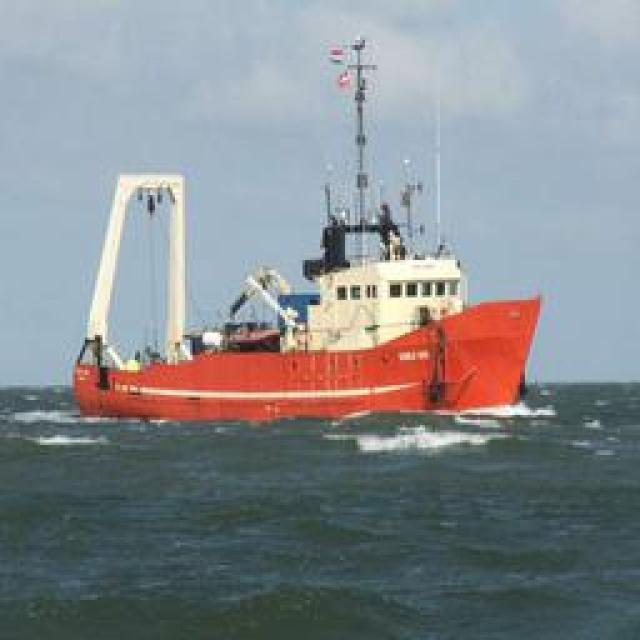ship2: (71, 37, 543, 425)
